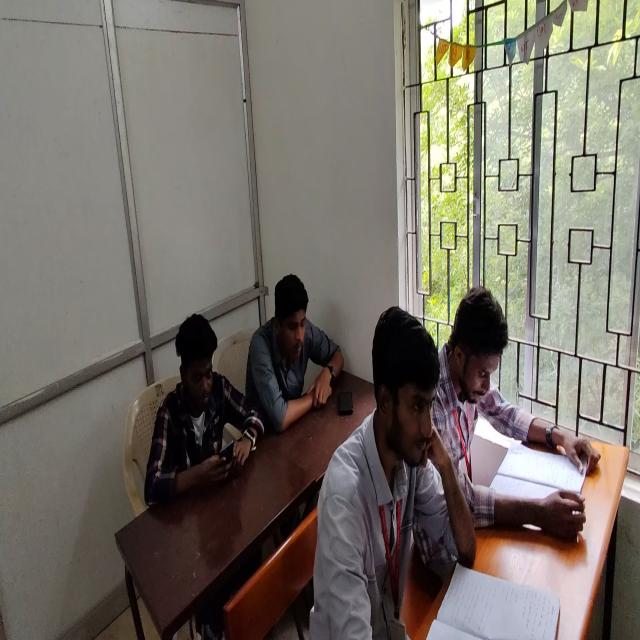reading: (428, 284, 604, 569), (332, 308, 474, 640)
using_mobile: (144, 312, 268, 508), (244, 269, 343, 434)
